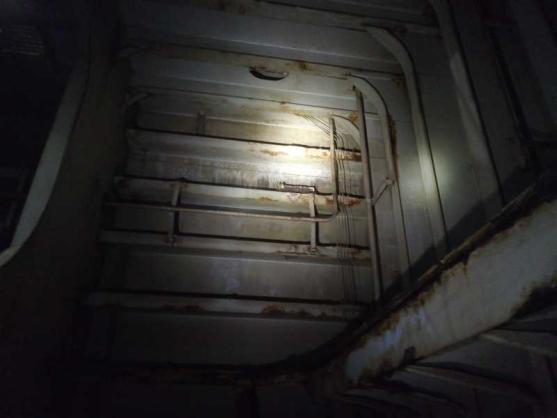corrosion: (447, 204, 557, 254), (318, 326, 397, 376), (388, 279, 453, 319), (288, 48, 347, 80), (316, 189, 371, 210), (258, 306, 313, 326), (321, 242, 363, 259), (247, 192, 288, 206), (248, 142, 291, 153), (344, 148, 368, 162), (341, 109, 363, 121)
